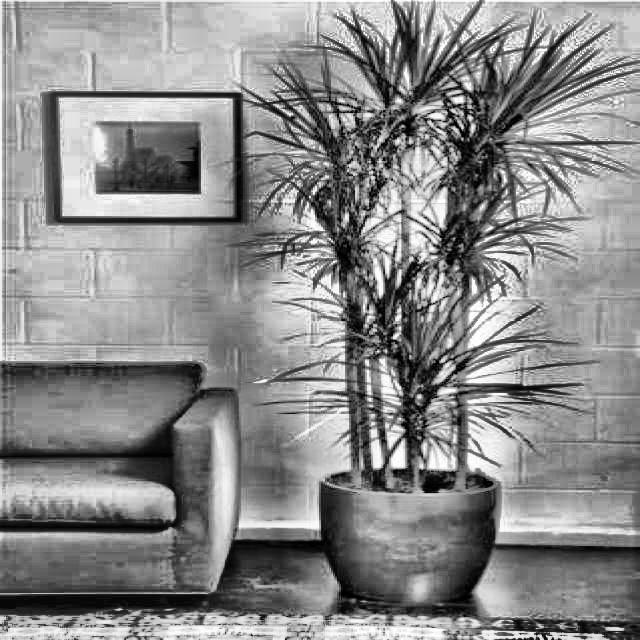plants: (262, 15, 572, 616)
